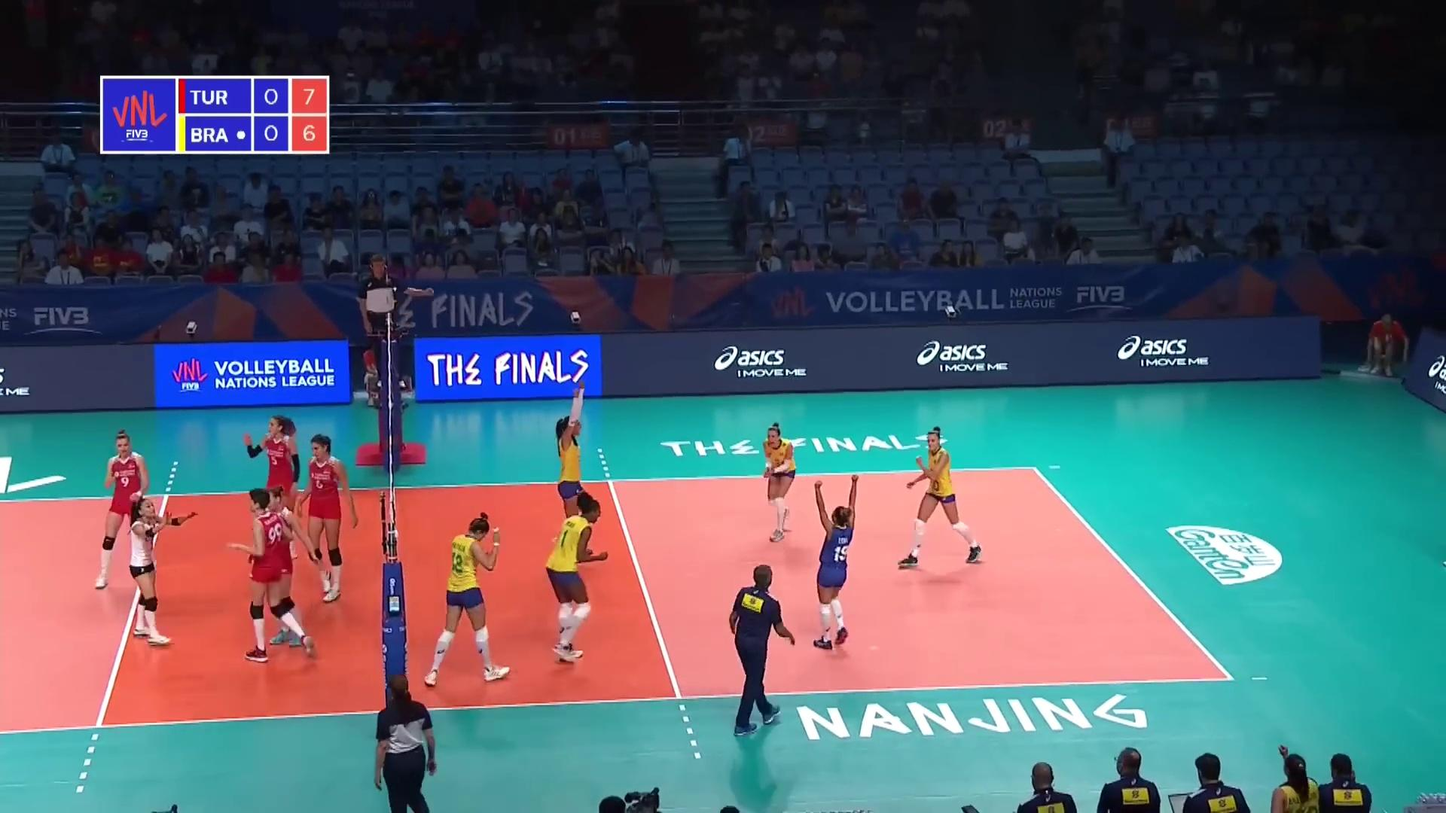player: (233, 487, 321, 660), (428, 513, 506, 682), (902, 430, 985, 571), (544, 497, 610, 661), (303, 433, 356, 606), (808, 476, 858, 652), (97, 431, 153, 588), (128, 499, 187, 645), (558, 392, 608, 552), (249, 417, 301, 567), (264, 491, 310, 648), (762, 422, 800, 545)
refree: (356, 256, 421, 390), (374, 678, 437, 813)
